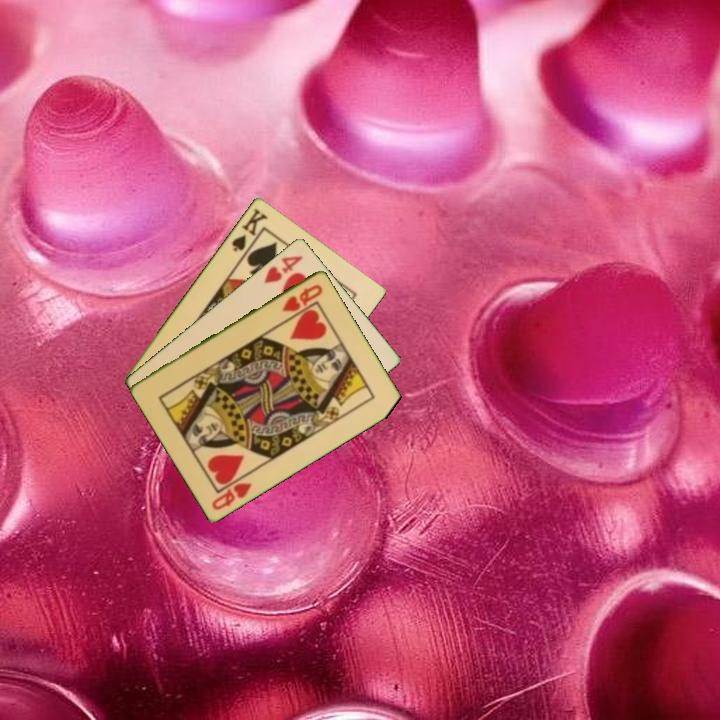4h: (260, 252, 306, 286)
Ks: (228, 204, 271, 254)
Qh: (279, 280, 326, 314), (208, 479, 255, 513)
